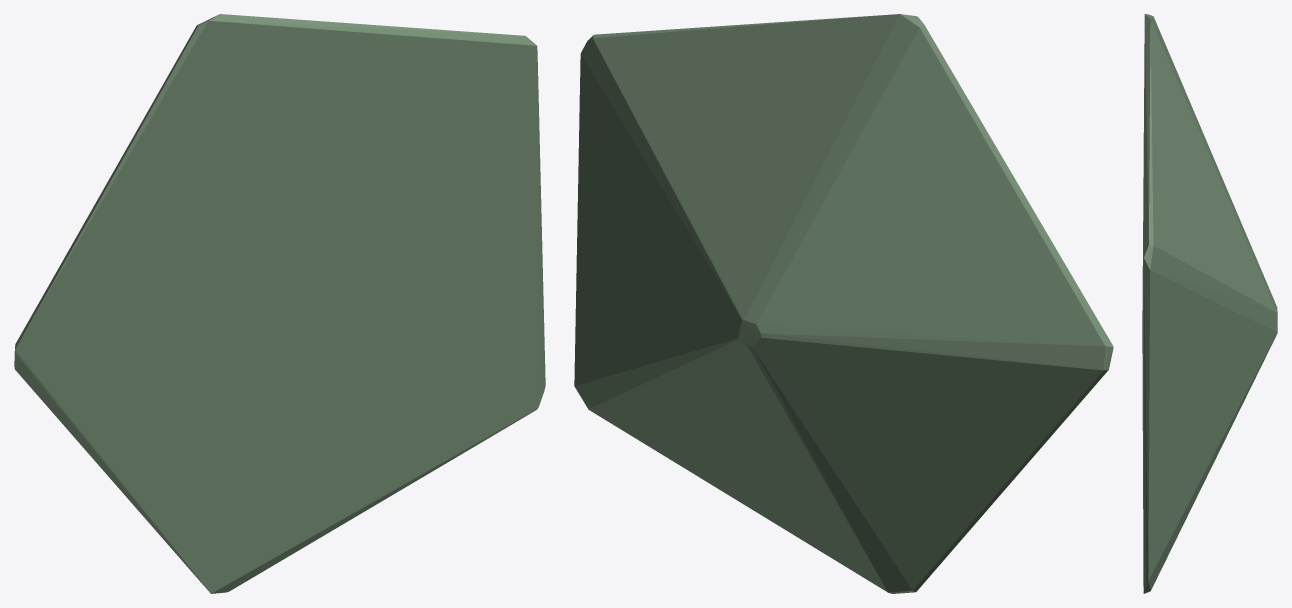
Rendered from ventilation_ceilingFan_hvls_a01.glb.
3 renders of one model, left to right at view 1: azimuth 30°, elevation 25°; view 2: azimuth 150°, elevation 25°; view 3: azimuth 270°, elevation 25°, orthographic. The views are drawn at different scales.
Visible parts, largest first — view 1: geometry_0; view 2: geometry_0; view 3: geometry_0.
Boxes of the visible parts, x1,y1,x2,y2 form: geometry_0: (14,14,545,593); geometry_0: (574,14,1113,593); geometry_0: (1142,14,1277,593).
Size of the model in its own units: 0.4598 by 0.477 by 0.1092.
